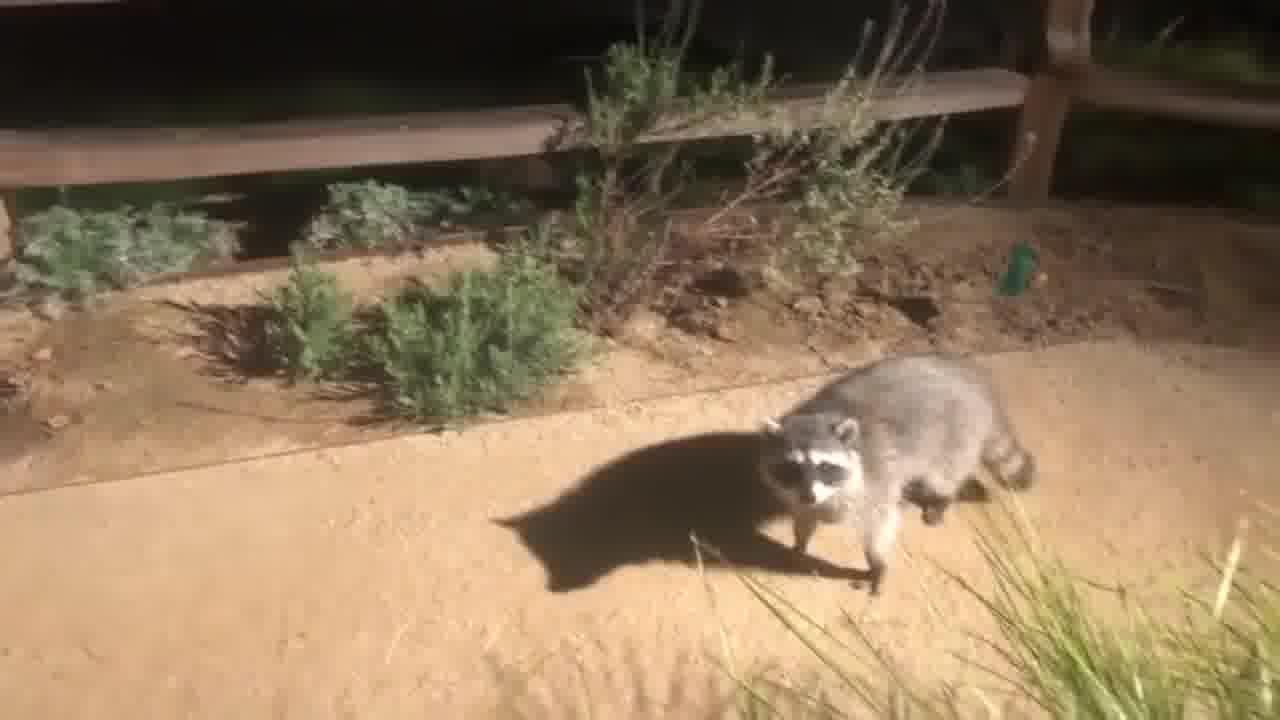raccoon: (746, 339, 1045, 603)
